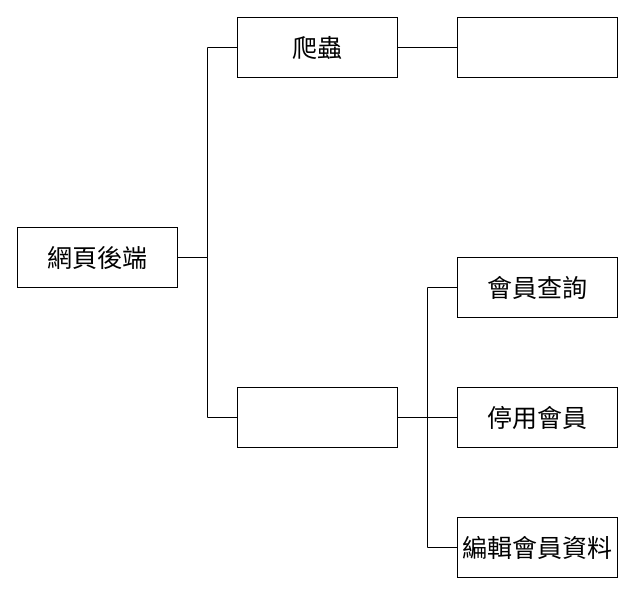
The diagram is 635 pixels wide and 595 high, and some of its shapes have lost their labels. Here are the shapes that lost their labels. From the top down, the centre of each, then its label:
At point 537,47: "編輯資料來源".
At point 317,417: "會員管理".
